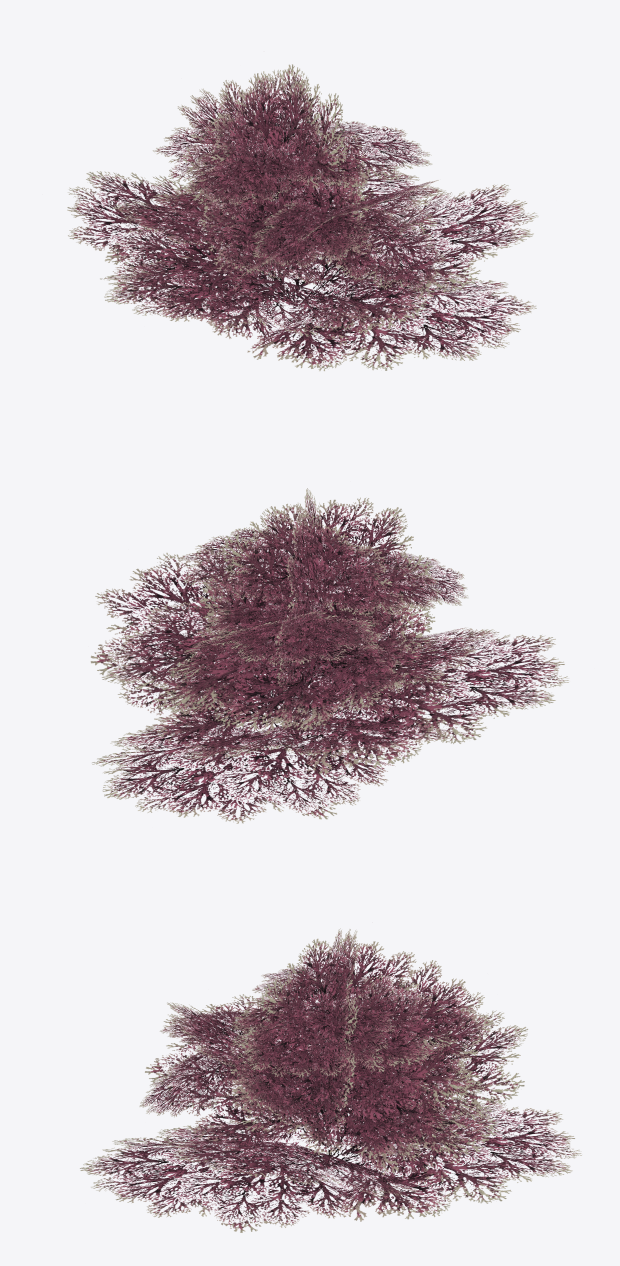
The model's file is Coral-Small_LOD0_FattooCreater.glb.
3 renders of one model, top to bottom at view 1: azimuth 30°, elevation 25°; view 2: azimuth 150°, elevation 25°; view 3: azimuth 270°, elevation 25°, orthographic. The views are drawn at different scales.
Visible parts, largest first — view 1: Coral-Small_LOD0; view 2: Coral-Small_LOD0; view 3: Coral-Small_LOD0.
Boxes of the visible parts, x1,y1,x2,y2 form: Coral-Small_LOD0: [67, 64, 538, 371]; Coral-Small_LOD0: [90, 488, 568, 823]; Coral-Small_LOD0: [80, 928, 581, 1232].
Size of the model in its own units: 0.1139 by 0.056 by 0.1123.
Materials: 1 (1 with a texture image).
